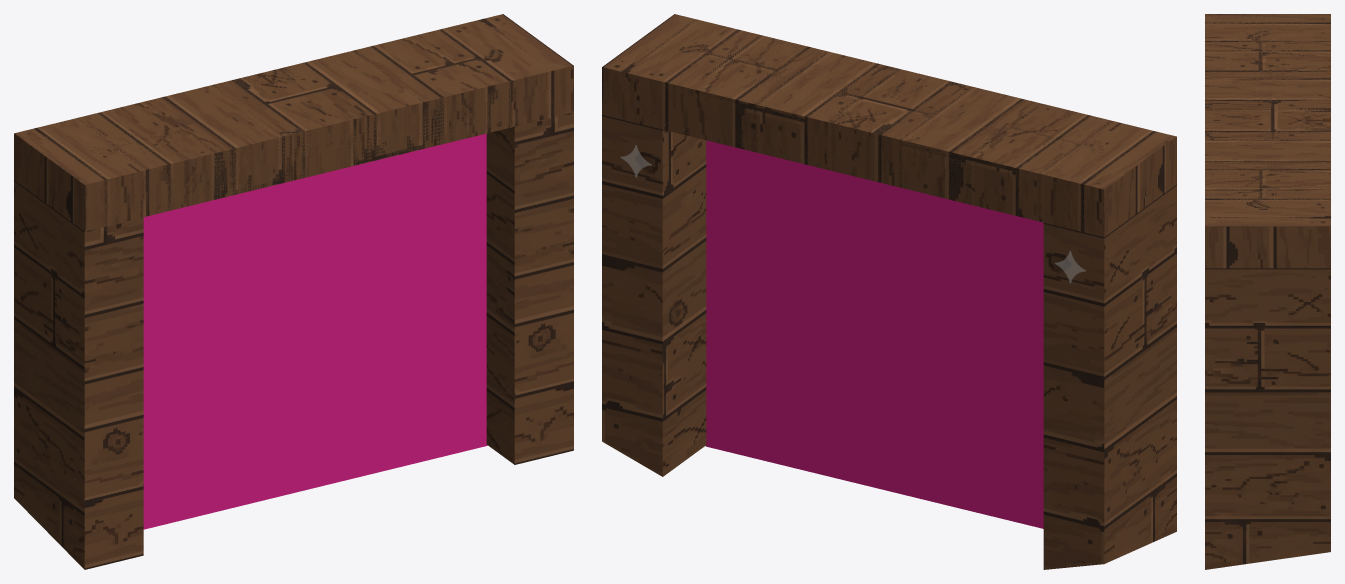
File: Portal.fbx
3 views of the same model, side by side, from view 1: azimuth 30°, elevation 25°; view 2: azimuth 150°, elevation 25°; view 3: azimuth 270°, elevation 25° (orthographic). The views are drawn at different scales.
Visible parts, largest first — view 1: Portal_Frame, Portal_Trigger_Plane; view 2: Portal_Frame, Portal_Trigger_Plane; view 3: Portal_Frame.
Boxes of the visible parts, box(x1,y1,x2,y2) form: Portal_Frame: box(14, 14, 573, 569); Portal_Trigger_Plane: box(143, 133, 487, 529); Portal_Frame: box(602, 14, 1176, 569); Portal_Trigger_Plane: box(705, 140, 1043, 528); Portal_Frame: box(1205, 14, 1330, 569).
Bounding box in the file's own units: 8 × 6.04 × 2.
Materials: 2 (1 with a texture image).
